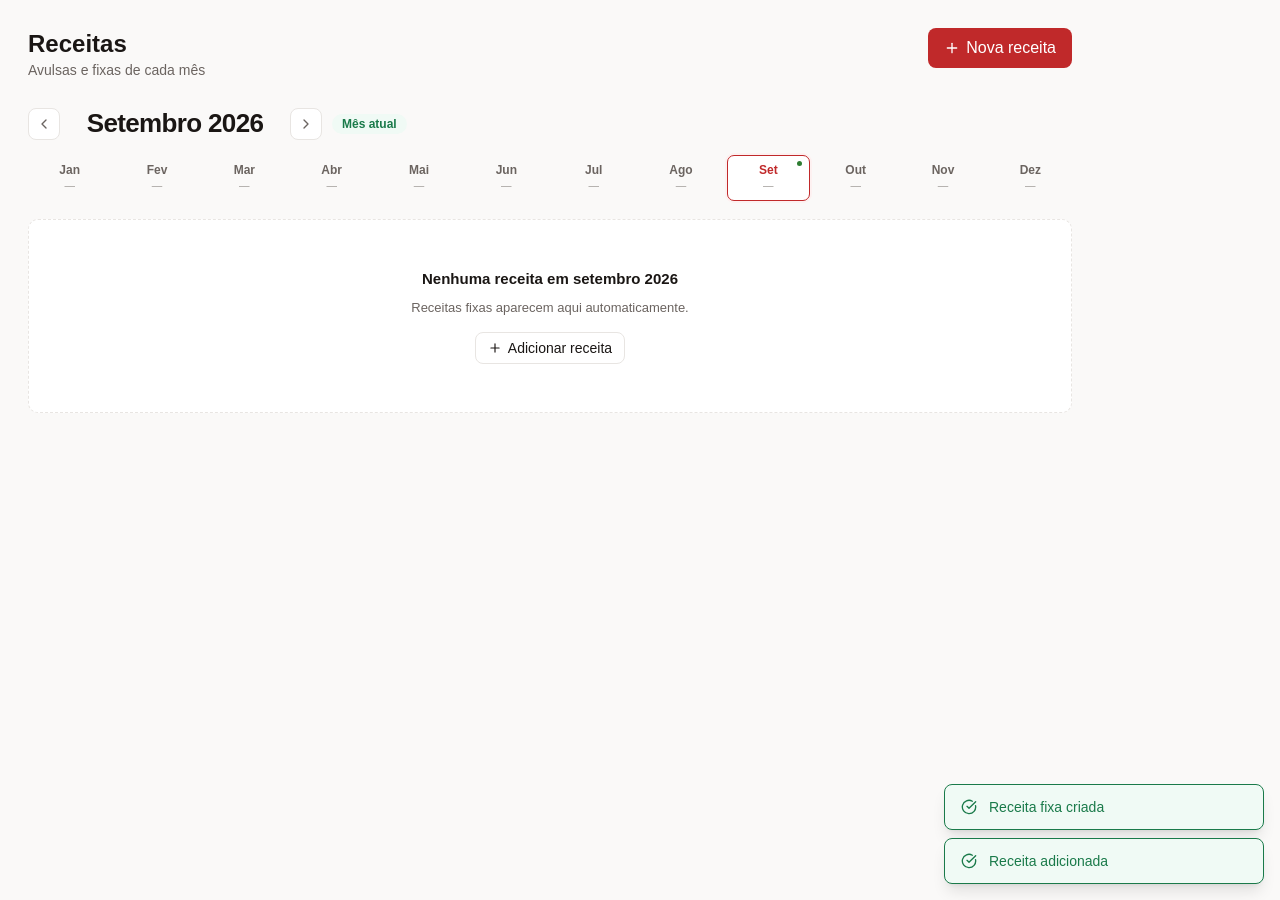
página de receitas: assistente › mantém o assistente aberto quando o servidor recusa
The width and height of the screenshot is (1280, 900).
Click the button "Nova receita" at (1000, 48), box top-left (928, 28), bottom-right (1072, 68)
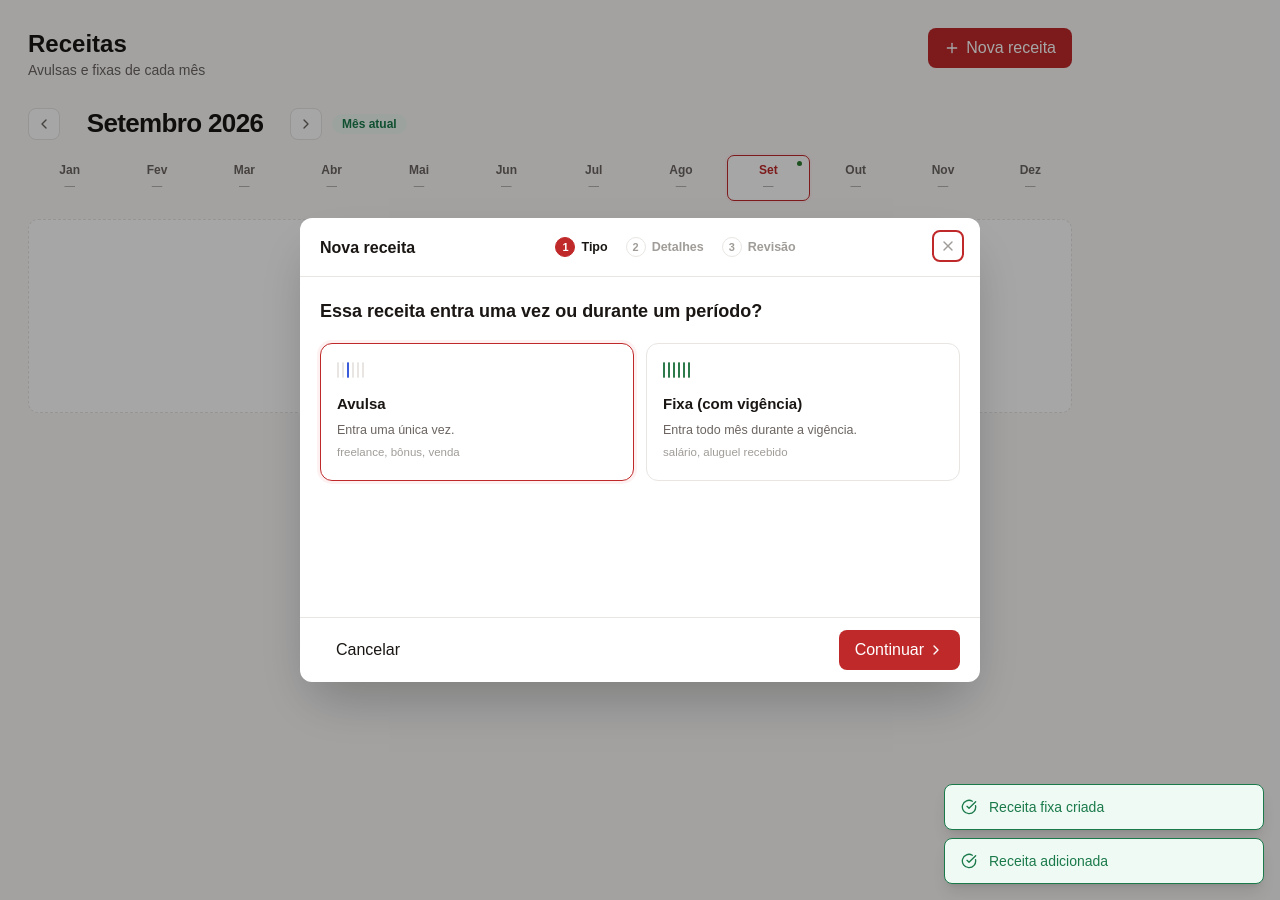
Click the button "Continuar" at (899, 650), box top-left (839, 630), bottom-right (960, 670)
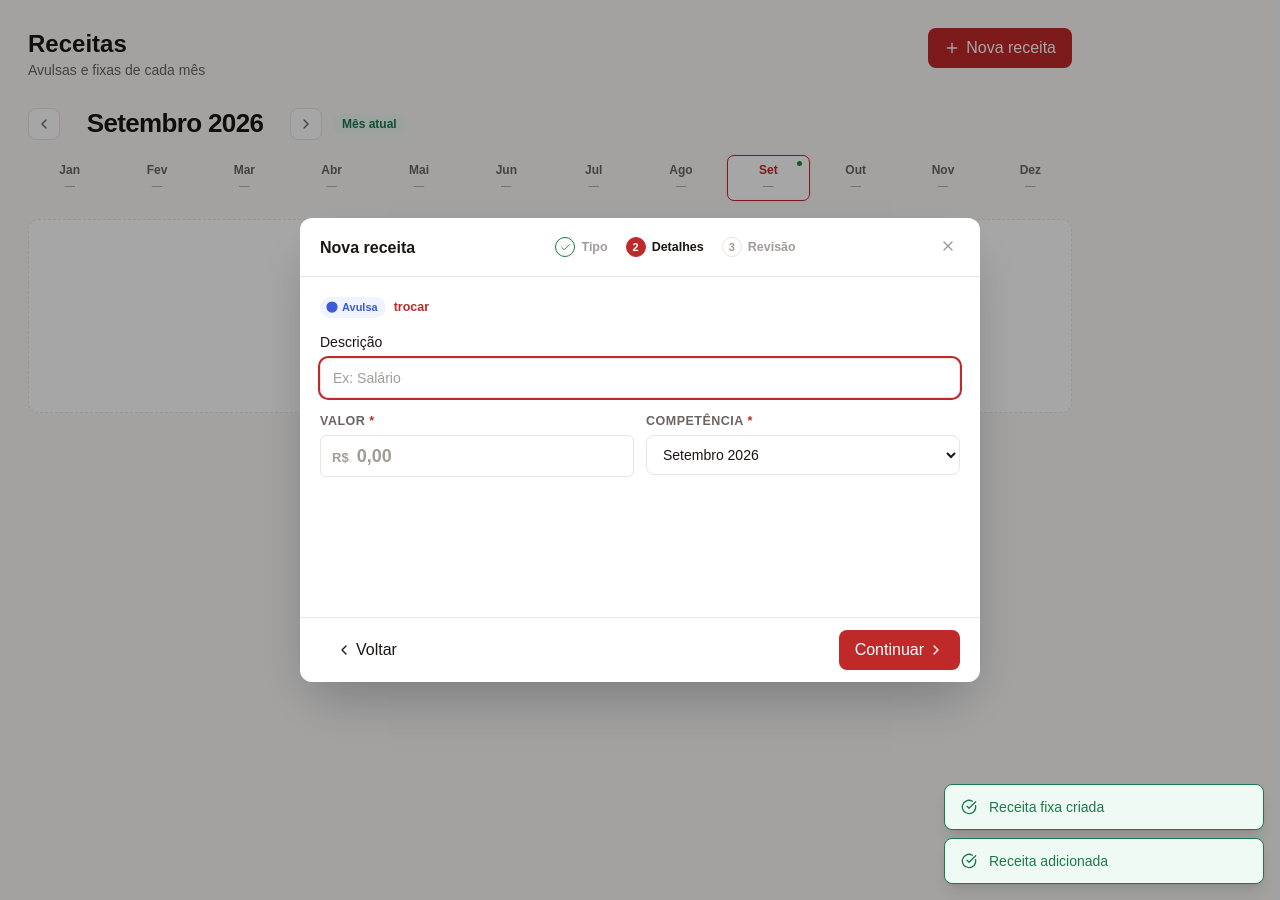
Type "Freelance" into the field labelled "Descrição" at (640, 378), box top-left (320, 358), bottom-right (960, 398)
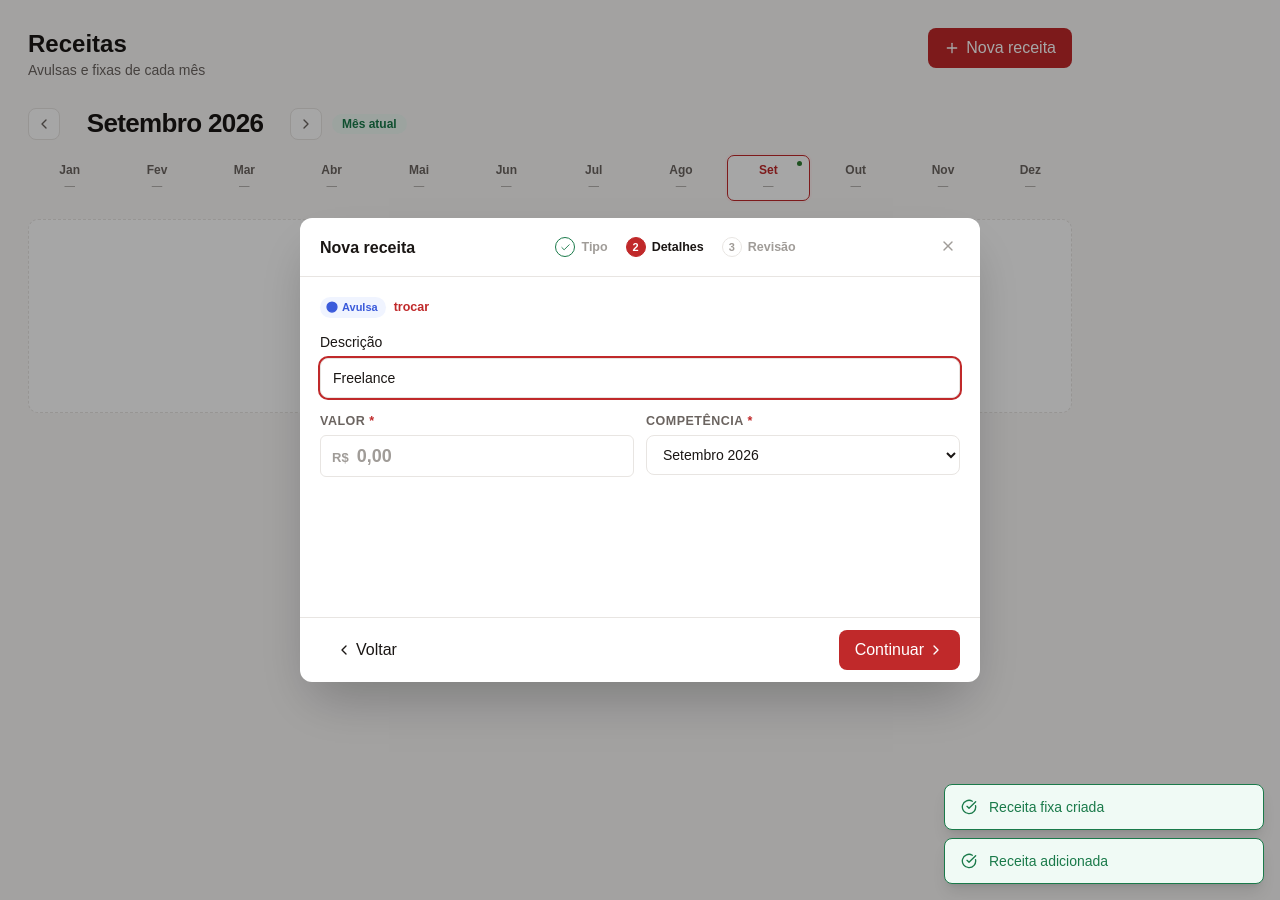
Type "800" into the field labelled "Valor *" at (489, 456), box top-left (357, 442), bottom-right (622, 470)
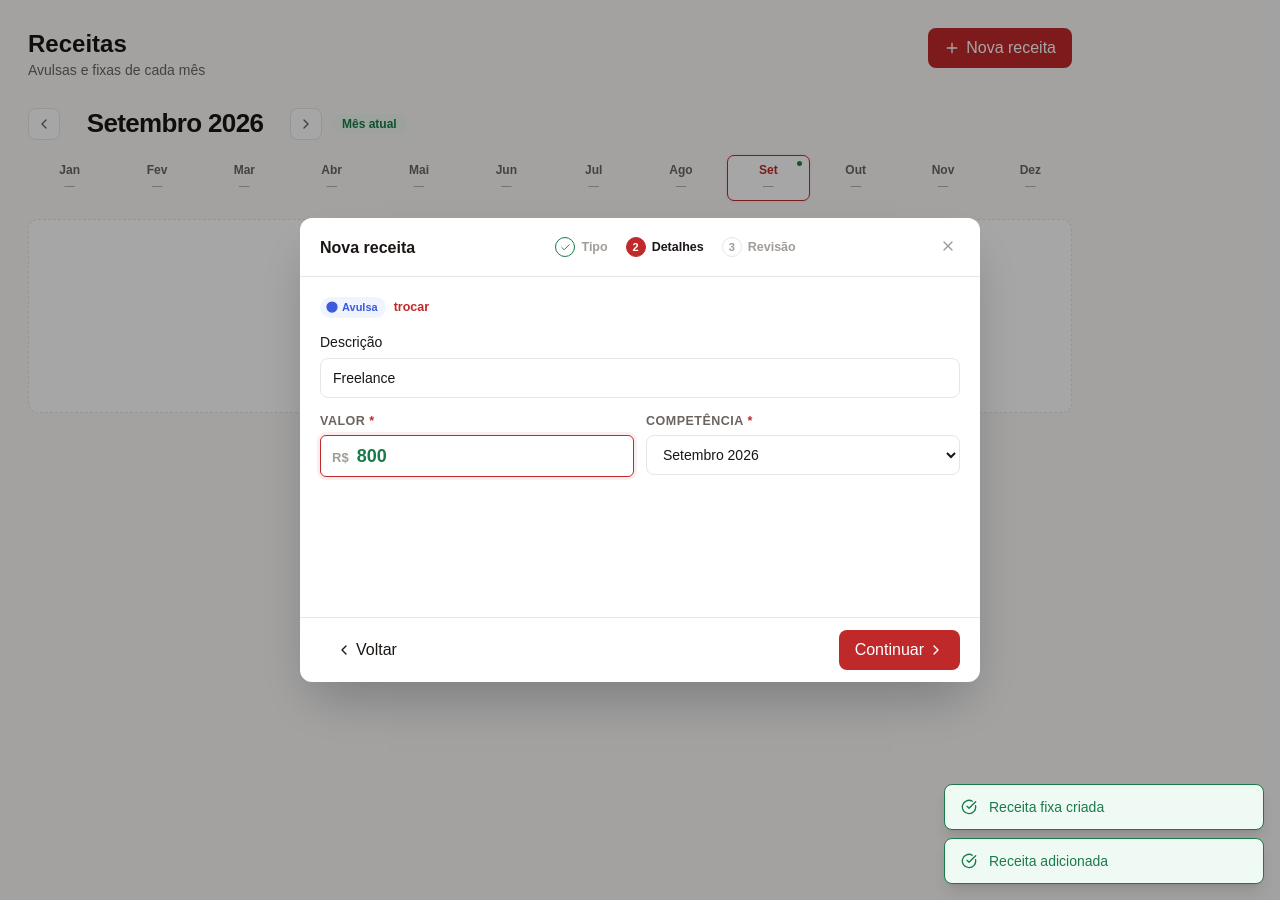
Click the button "Continuar" at (899, 650), box top-left (839, 630), bottom-right (960, 670)
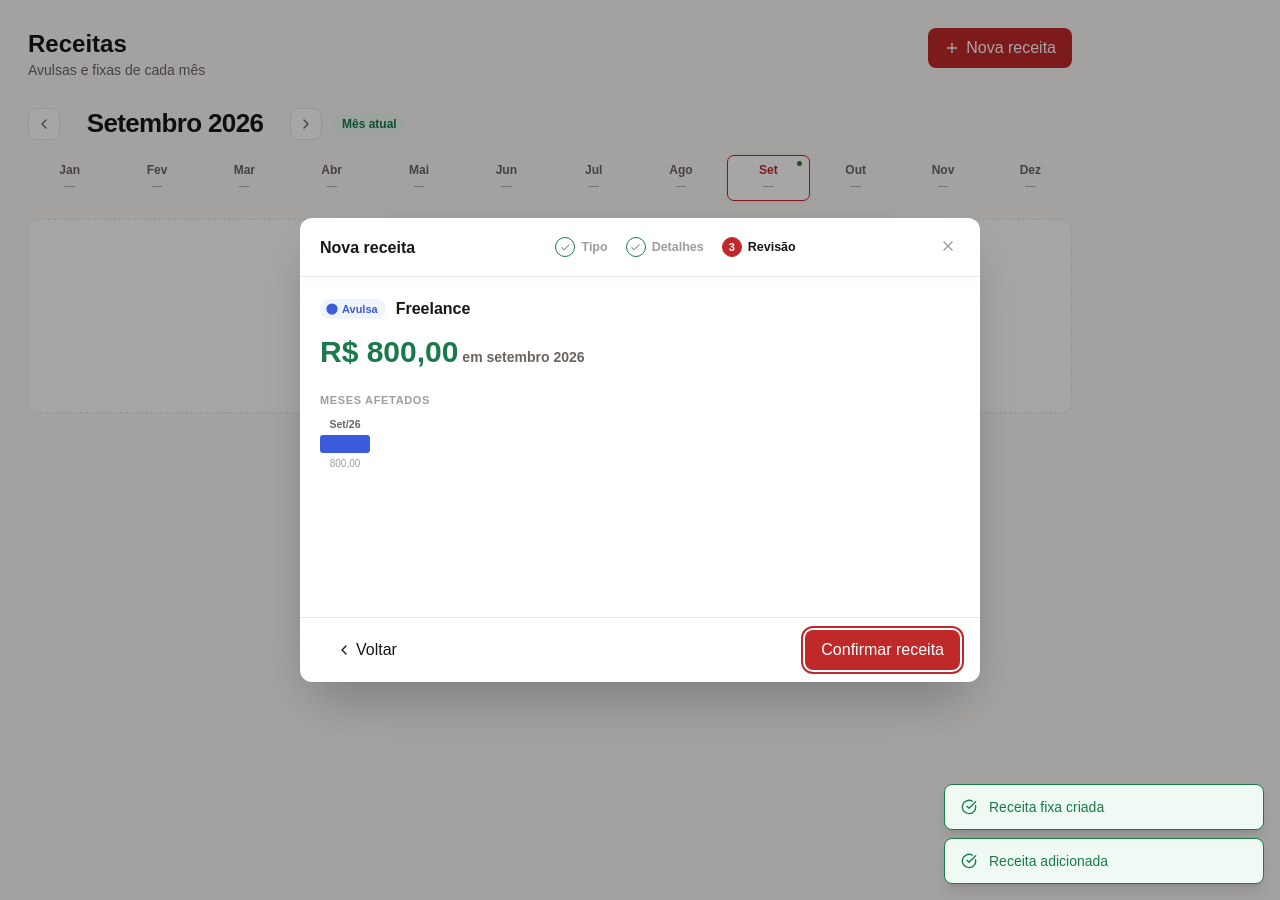
Click the button "Confirmar receita" at (883, 650), box top-left (805, 630), bottom-right (960, 670)
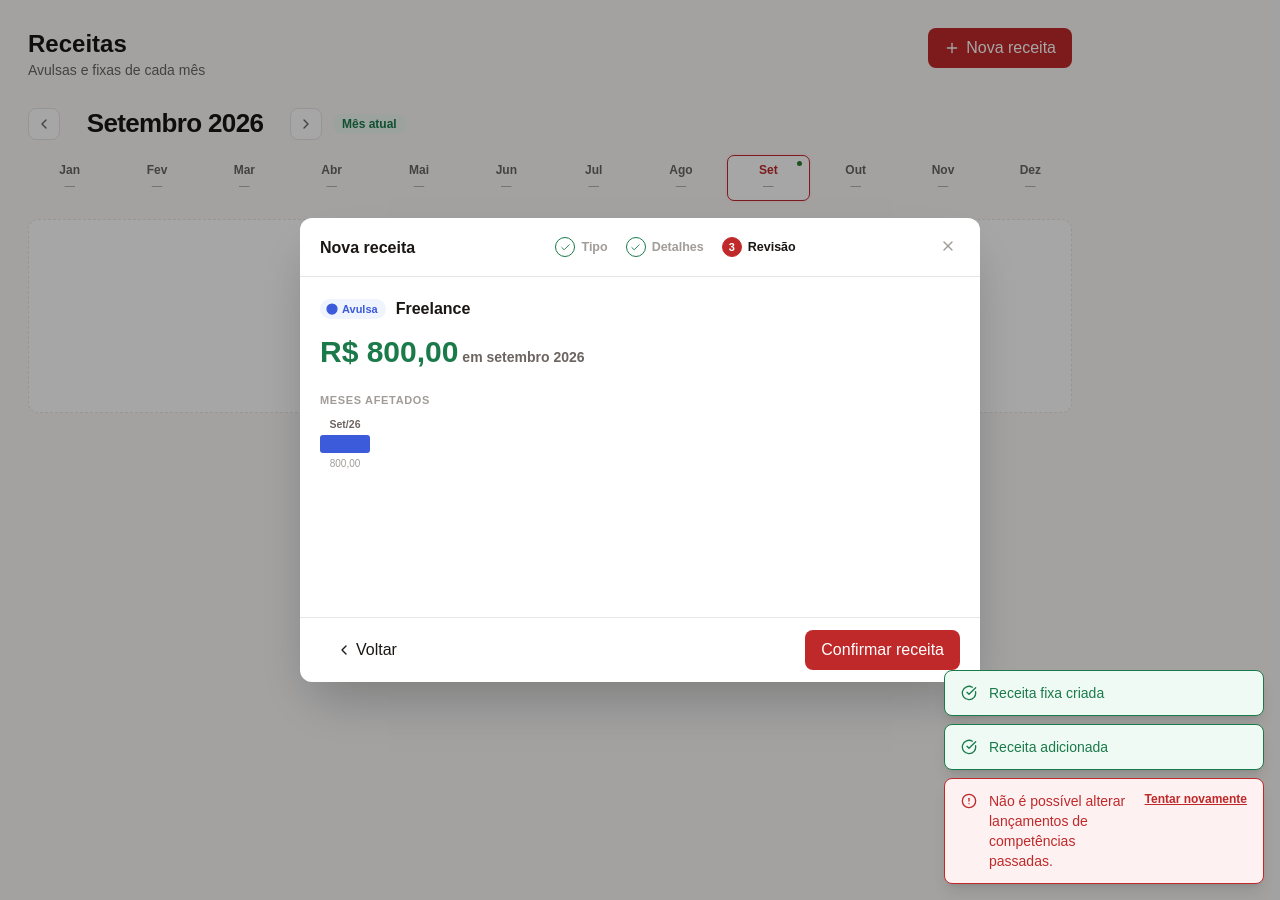
Now the dialog "Nova receita" is shown, box top-left (300, 218), bottom-right (980, 682)
Now the text "Não é possível alterar lançamentos de competências passadas." is shown, box top-left (989, 791), bottom-right (1132, 871)
